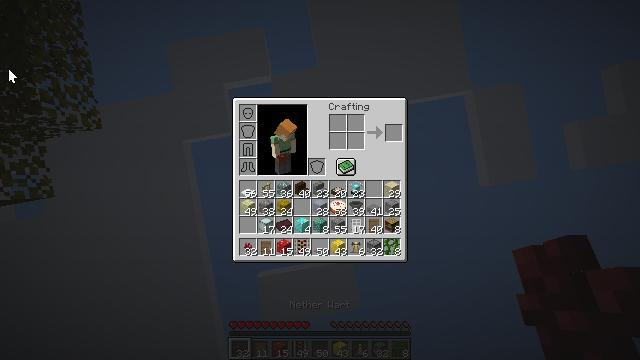cursor: (8, 68, 18, 84)
